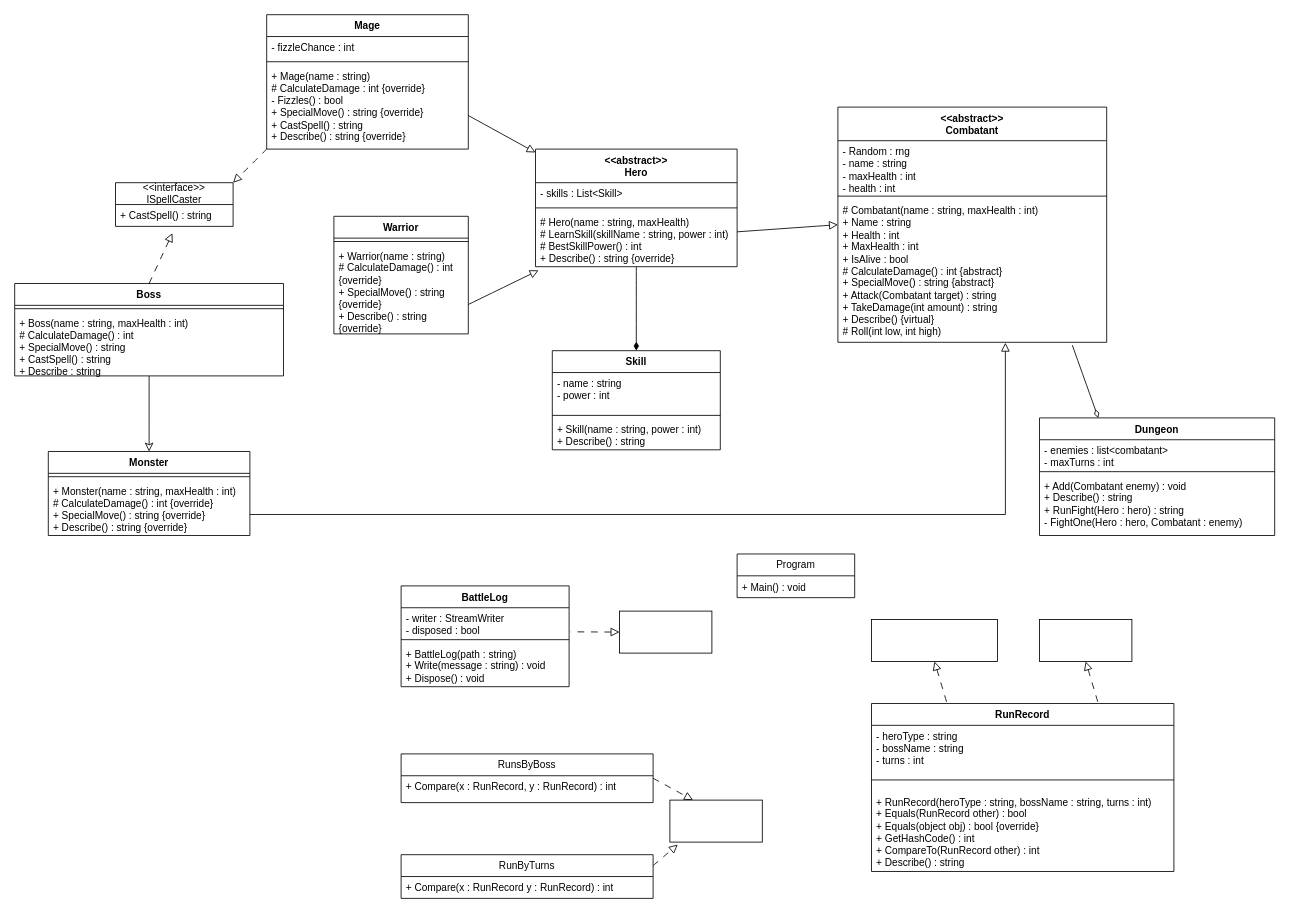
This 1289x916 diagram has some shape labels left out. The shapes that lost their labels are listed below. From the top down, each one's centre as x and y in pixels, then its label:
At (665,631): "«interface» IDisposable".
At (934,640): "«interface» IEquatable<RunRecord>".
At (1085,640): "«interface» IComparable".
At (715,820): "«interface» IComparer".
